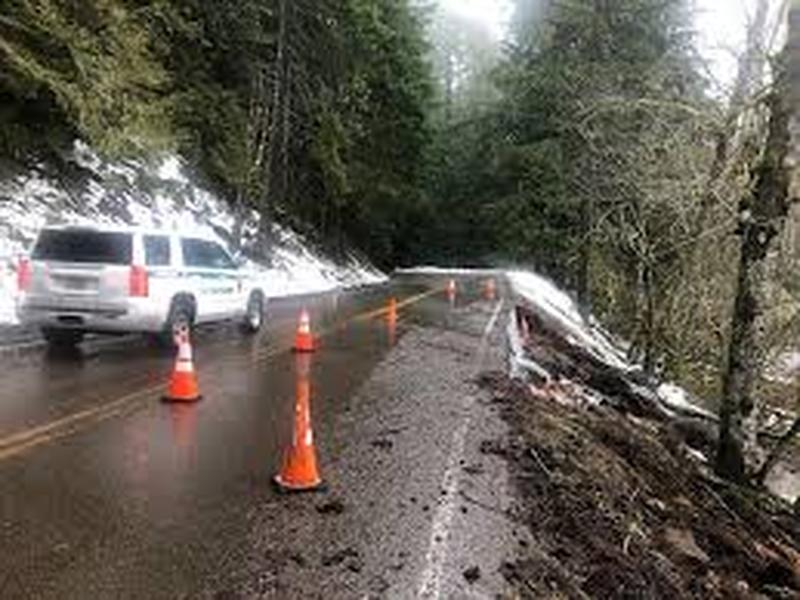Cone: (273, 391, 328, 492), (386, 295, 399, 321)
